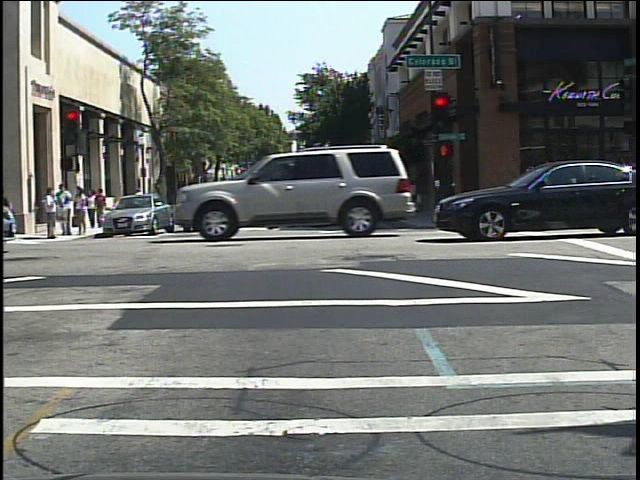person: (177, 181, 194, 217), (132, 185, 147, 217), (87, 188, 98, 230)
